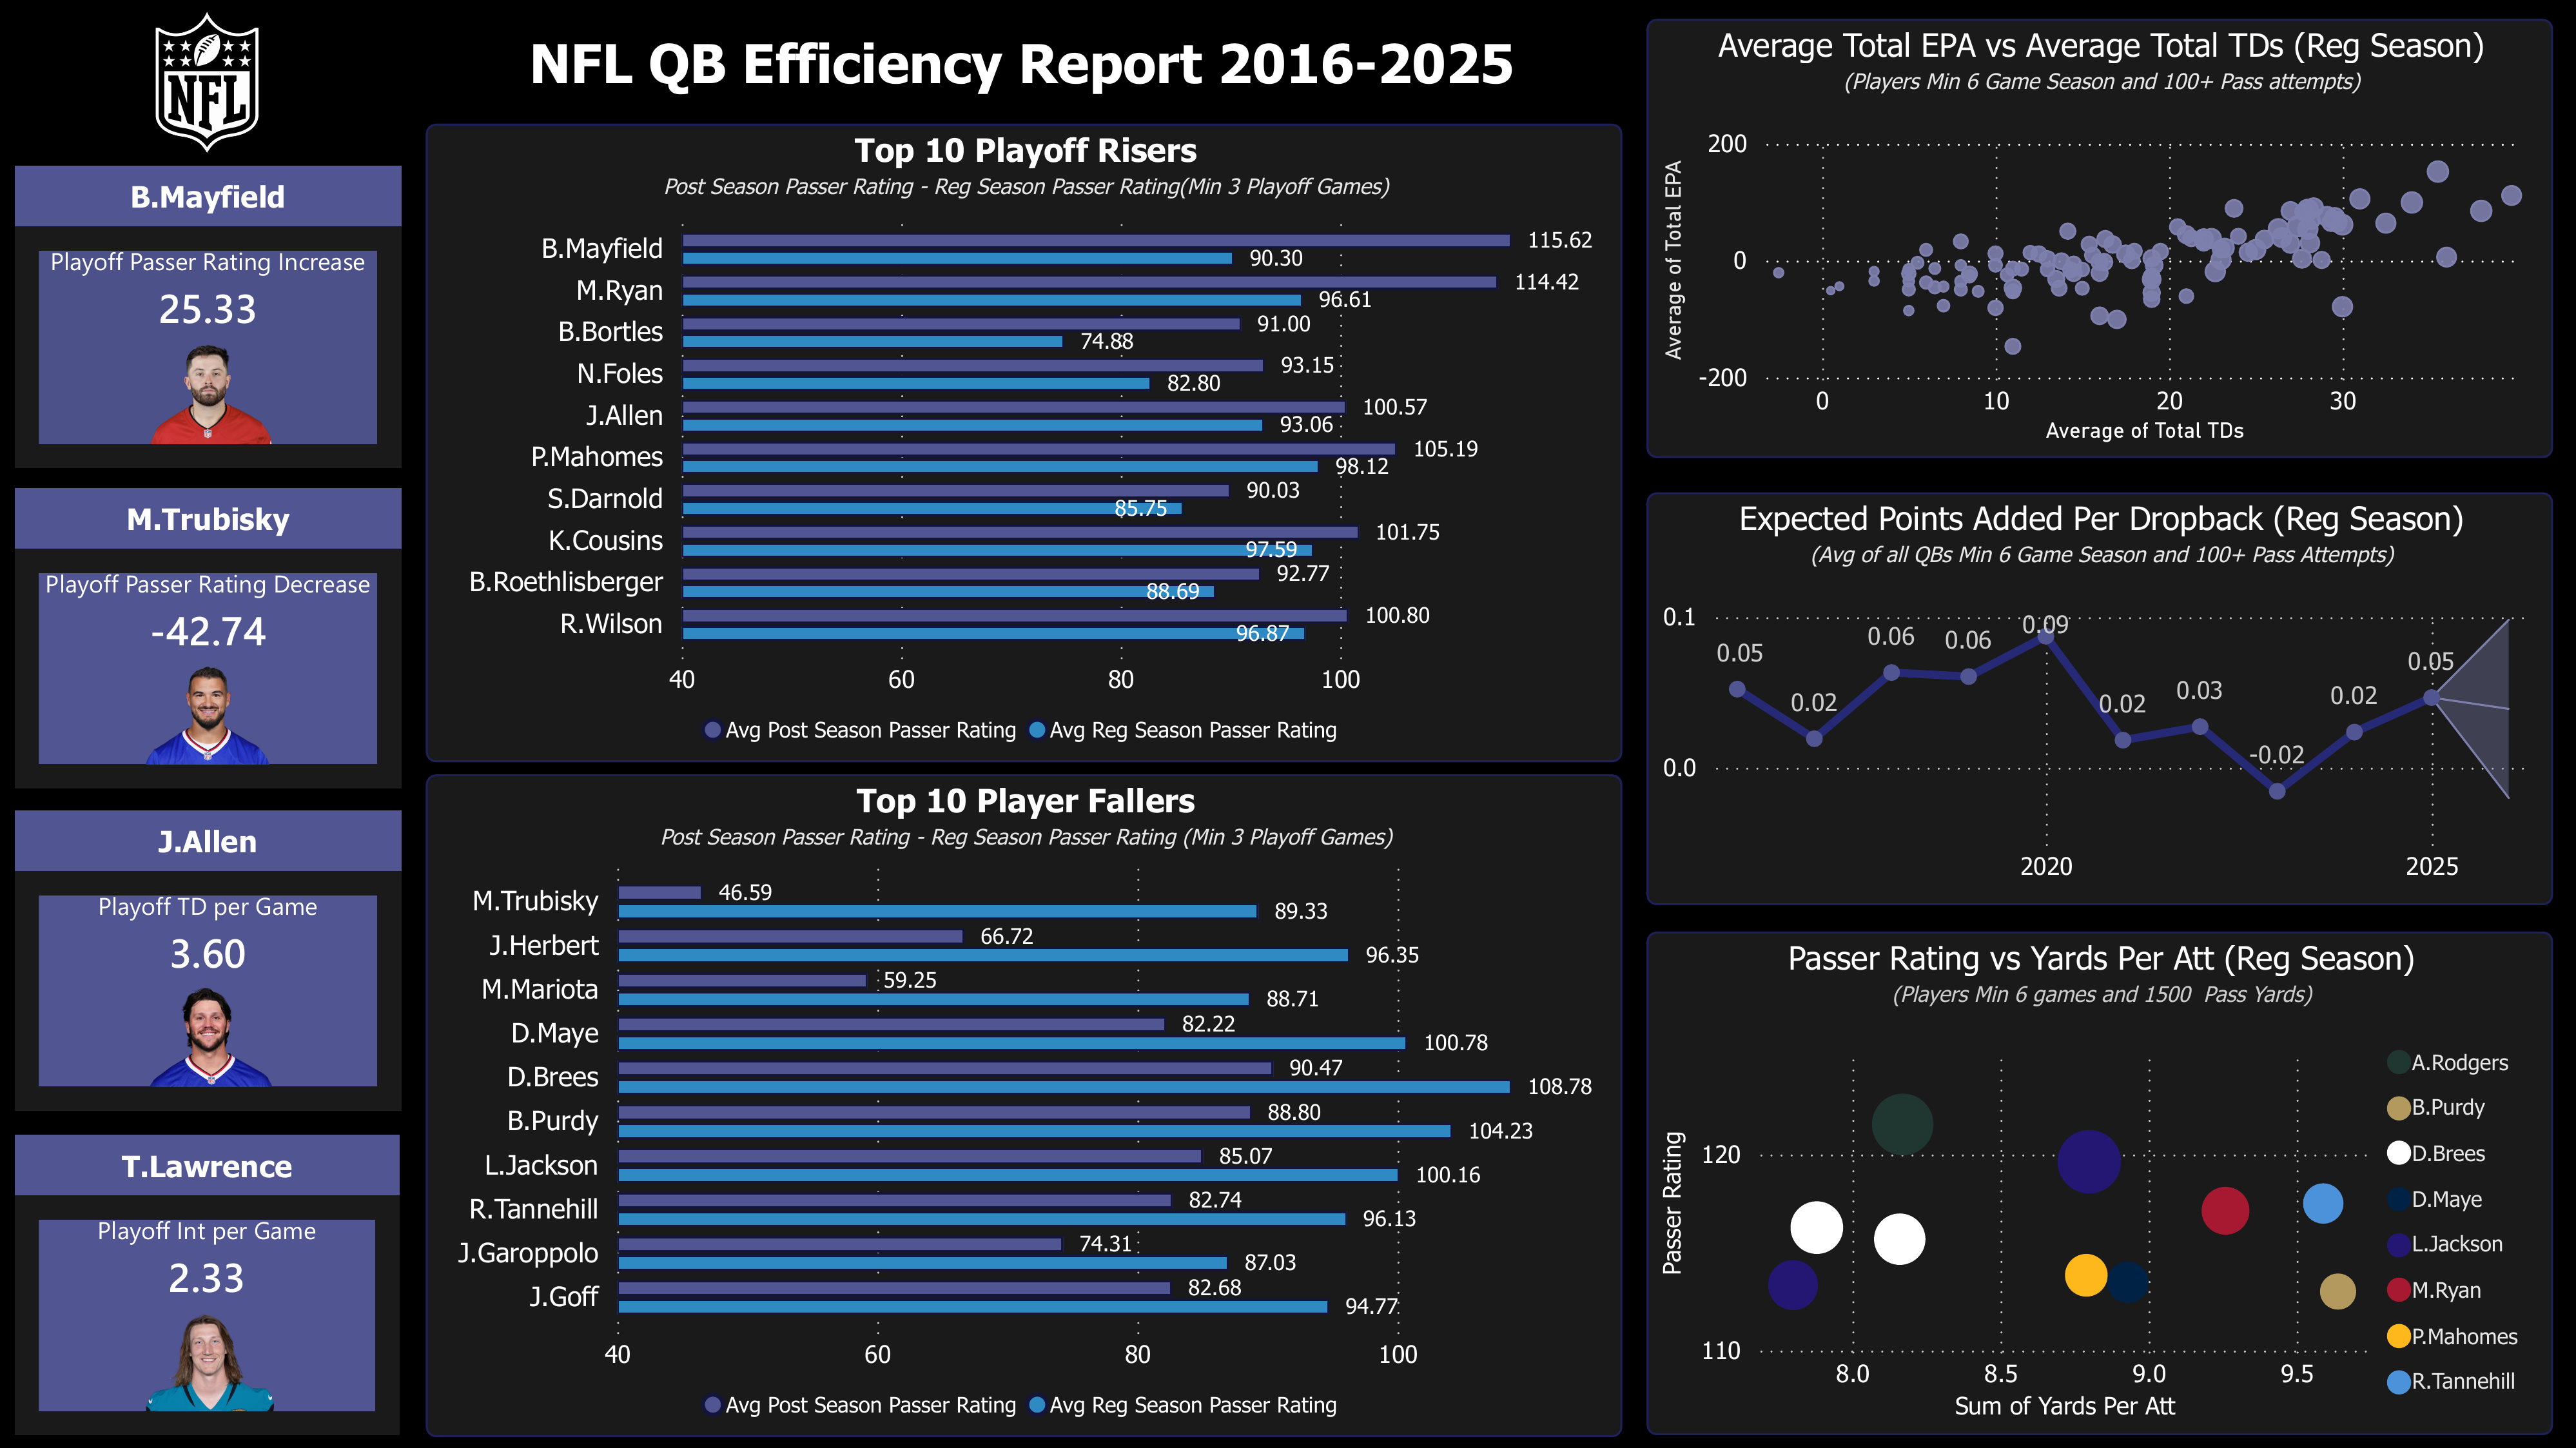

The dashboard page shown, as its layout file describes it:
{"tool":"powerbi","page":{"name":"QB Efficiency","canvas":[1280,720],"ordinal":1},"visuals":[{"type":"image","box":[27.8,5.4,150.8,72.7],"z":0},{"type":"textbox","box":[150.8,9.9,714.6,73.6],"z":1000},{"type":"scatterChart","title":"Passer Rating vs Yards Per Att (Reg Season)","fields":{"Y":["top_25_reg_passer_rating.Passer Rating"],"Series":["top_25_reg_passer_rating.Player"],"X":["Sum(top_25_reg_passer_rating.Yards Per Att)"],"Size":["Sum(top_25_reg_passer_rating.TD to INT Ratio)"]},"box":[818.1,463.3,450.1,249.3],"z":2000},{"type":"clusteredBarChart","title":"Top 10 Playoff Risers","fields":{"Y":["Sum(reg_vs_post_game_avg.Avg Post Season Passer Rating)","Sum(reg_vs_post_game_avg.Avg Reg Season Passer Rating)"],"Category":["reg_vs_post_game_avg.Player"]},"box":[211.9,61.9,594.3,316.9],"z":3000},{"type":"clusteredBarChart","title":"Top 10 Player Fallers","fields":{"Y":["Sum(reg_vs_post_game_avg.Avg Post Season Passer Rating)","Sum(reg_vs_post_game_avg.Avg Reg Season Passer Rating)"],"Category":["reg_vs_post_game_avg.Player"]},"box":[211.9,385.1,594.3,328.6],"z":4000},{"type":"cardVisual","title":"Biggest Playoff Riser","fields":{"Data":["Sum(reg_vs_post_game_avg.Passer Rating Difference)"],"Rows":["reg_vs_post_game_avg.Player"]},"box":[8.1,83,192.1,149.9],"z":5000},{"type":"cardVisual","title":"Biggest Playoff Faller","fields":{"Data":["Sum(reg_vs_post_game_avg.Passer Rating Difference)"],"Rows":["reg_vs_post_game_avg.Player"]},"box":[8.1,243,192,149],"z":6000},{"type":"cardVisual","fields":{"Data":["Sum(reg_vs_post_game_avg.Post Season INTs Per Game)"],"Rows":["reg_vs_post_game_avg.Player"]},"box":[8.1,563.8,191,149],"z":7000},{"type":"scatterChart","title":"Average Total EPA vs Average Total TDs (Reg Season)","fields":{"Category":["epa_vs_tds_scored.Player"],"Size":["Avg(epa_vs_tds_scored.Passing Yards)"],"X":["Avg(epa_vs_tds_scored.Total TDs)"],"Y":["Avg(epa_vs_tds_scored.Total EPA)"]},"box":[818.1,10,450,218.5],"z":8000},{"type":"cardVisual","fields":{"Rows":["reg_vs_post_game_avg.Player"],"Data":["Sum(reg_vs_post_game_avg.Post Season Total TDs Per Game)"]},"box":[8,403,192,149],"z":9000},{"type":"lineChart","title":"Expected Points Added Per Dropback (Reg Season)","fields":{"Y":["Avg(epa_vs_tds_scored.EPA per Dropback)"],"Category":["epa_vs_tds_scored.Season"]},"box":[818,245,450,205],"z":10000}]}

Visuals, with their boxes in screenshot pixels (x1, y1, x2, y2), scaled from the page's 1280x720 canvas onto the 2576x1448 screenshot:
image: (x1=56, y1=11, x2=360, y2=157)
textbox: (x1=304, y1=20, x2=1742, y2=168)
"Passer Rating vs Yards Per Att (Reg Season)" scatterChart: (x1=1646, y1=932, x2=2552, y2=1433)
"Top 10 Playoff Risers" clusteredBarChart: (x1=427, y1=124, x2=1623, y2=762)
"Top 10 Player Fallers" clusteredBarChart: (x1=427, y1=774, x2=1623, y2=1435)
"Biggest Playoff Riser" cardVisual: (x1=16, y1=167, x2=403, y2=469)
"Biggest Playoff Faller" cardVisual: (x1=16, y1=489, x2=403, y2=788)
cardVisual - Sum(reg_vs_post_game_avg.Post Season INTs Per Game) x reg_vs_post_game_avg.Player: (x1=16, y1=1134, x2=401, y2=1434)
"Average Total EPA vs Average Total TDs (Reg Season)" scatterChart: (x1=1646, y1=20, x2=2552, y2=460)
cardVisual - reg_vs_post_game_avg.Player x Sum(reg_vs_post_game_avg.Post Season Total TDs Per Game): (x1=16, y1=810, x2=402, y2=1110)
"Expected Points Added Per Dropback (Reg Season)" lineChart: (x1=1646, y1=493, x2=2552, y2=905)
